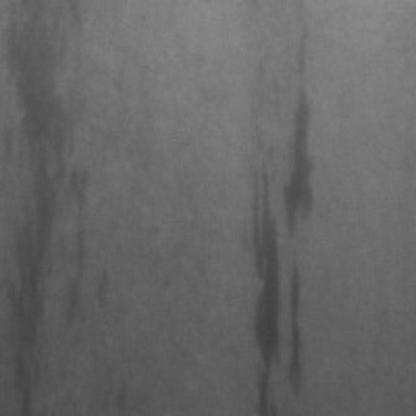inclusion: (0, 4, 90, 408), (243, 23, 312, 412), (52, 220, 114, 335)
